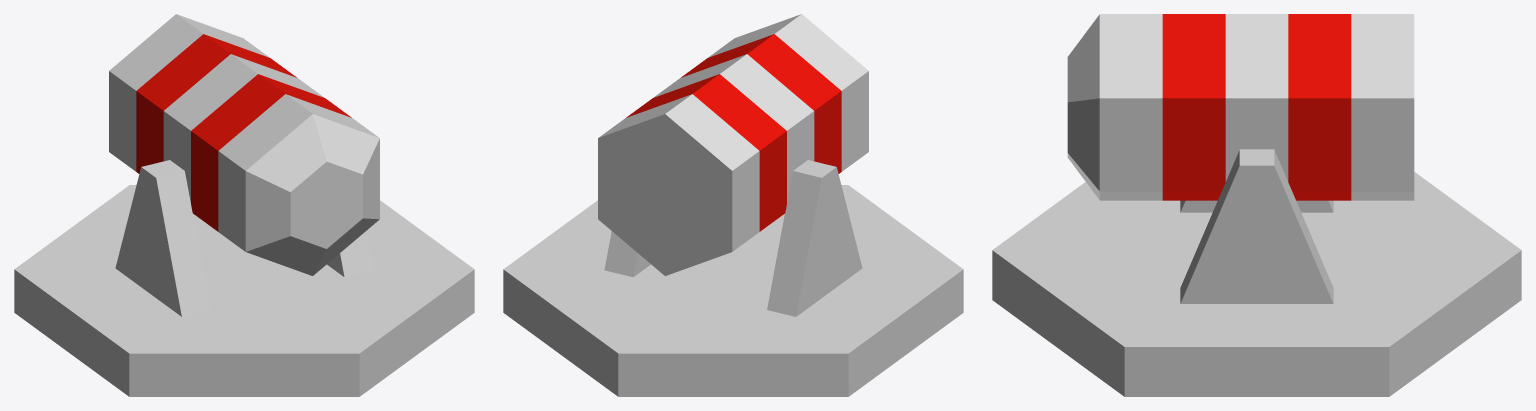
File: TurretRocketPod.fbx
The picture shows the model from 3 angles, left to right: view 1: azimuth 30°, elevation 25°; view 2: azimuth 150°, elevation 25°; view 3: azimuth 270°, elevation 25°; orthographic projection. The views are drawn at different scales.
Visible parts, largest first — view 1: TurretMissile; view 2: TurretMissile; view 3: TurretMissile.
Boxes of the visible parts, x1=… form: TurretMissile: x1=14, y1=14, x2=474, y2=396; TurretMissile: x1=503, y1=14, x2=963, y2=396; TurretMissile: x1=992, y1=14, x2=1521, y2=396.
Bounding box in the file's own units: 29.72 × 20.47 × 34.32.
